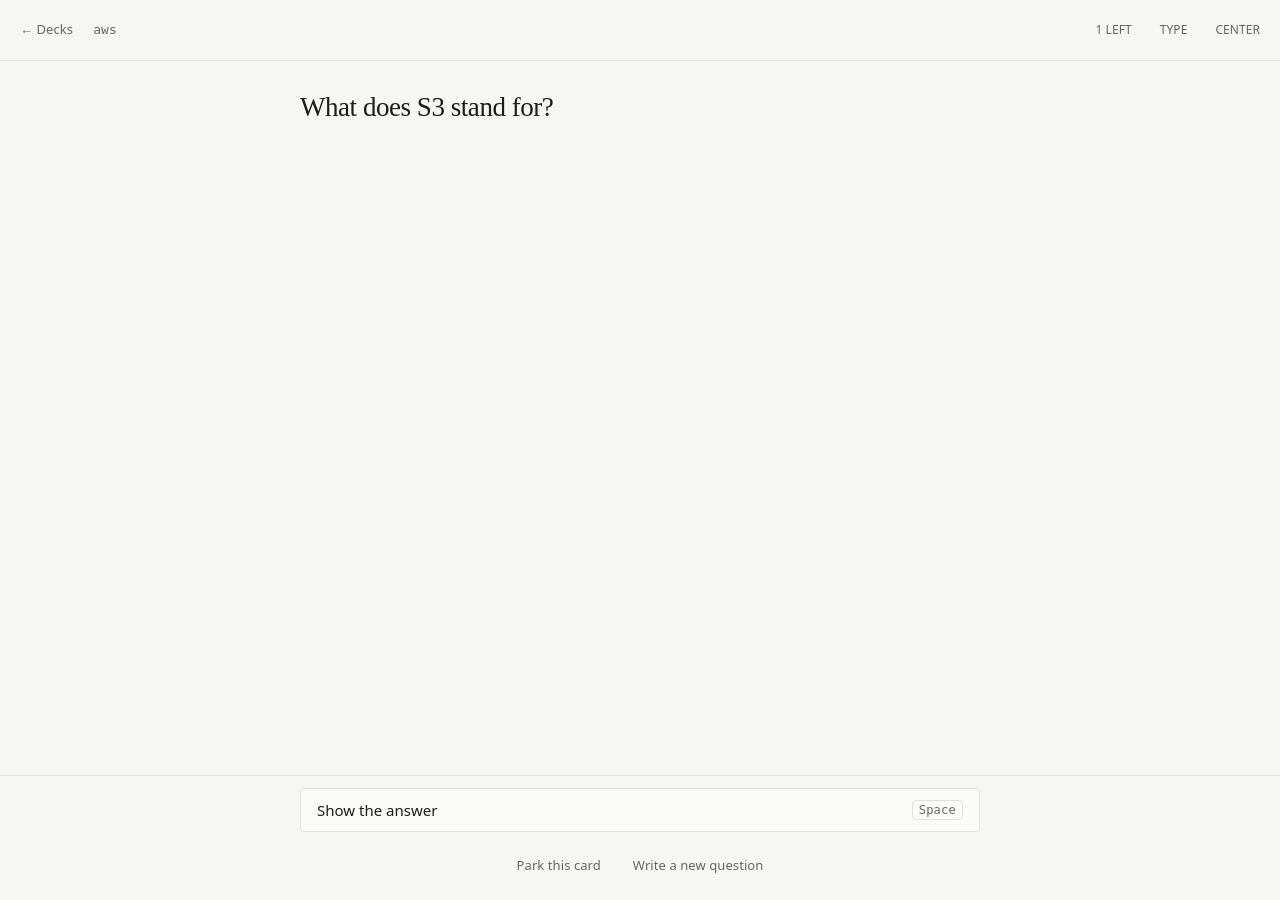
Test: #790 A9 a touch tap on the question reveals the answer
The image size is (1280, 900).
Press the mouse on the element with test id "review-card": coordinates (427, 107) top-left (300, 92), bottom-right (553, 122)
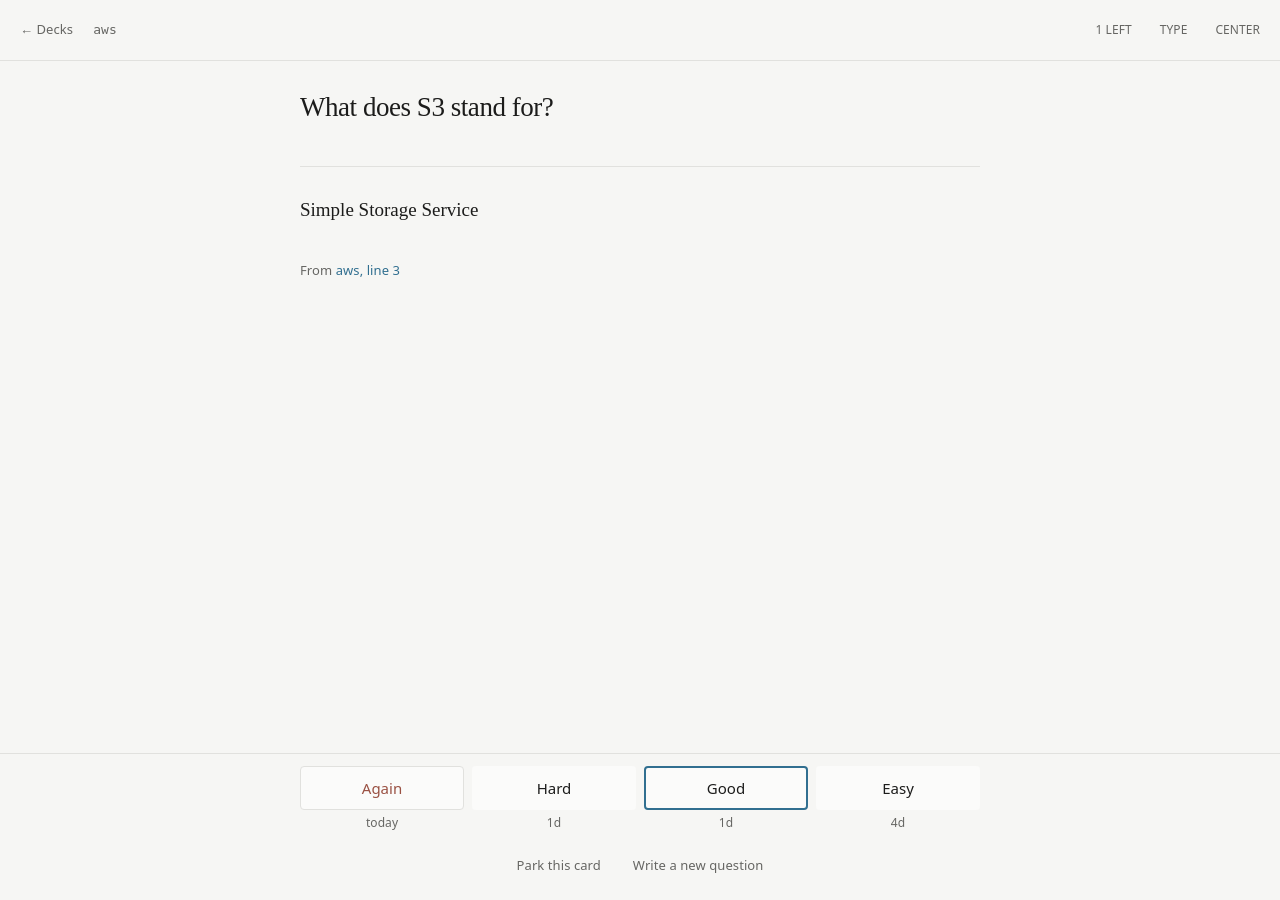
Now the element with test id "review-back" is shown, box top-left (300, 166), bottom-right (980, 237)
